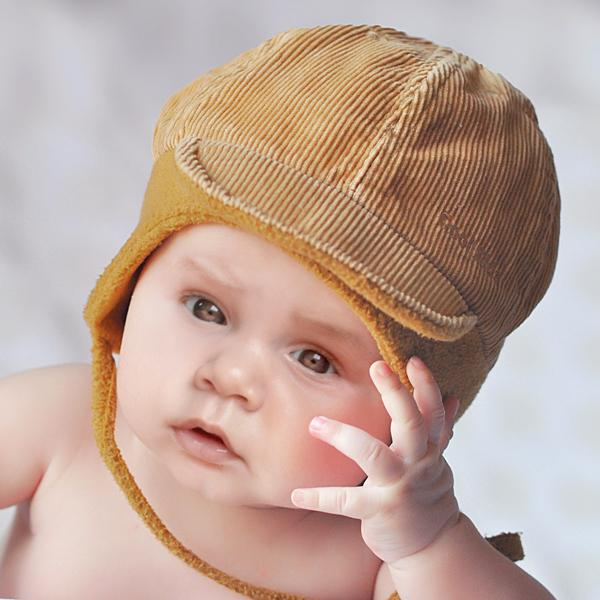Eyes: (277, 334, 348, 386), (171, 281, 234, 334)
